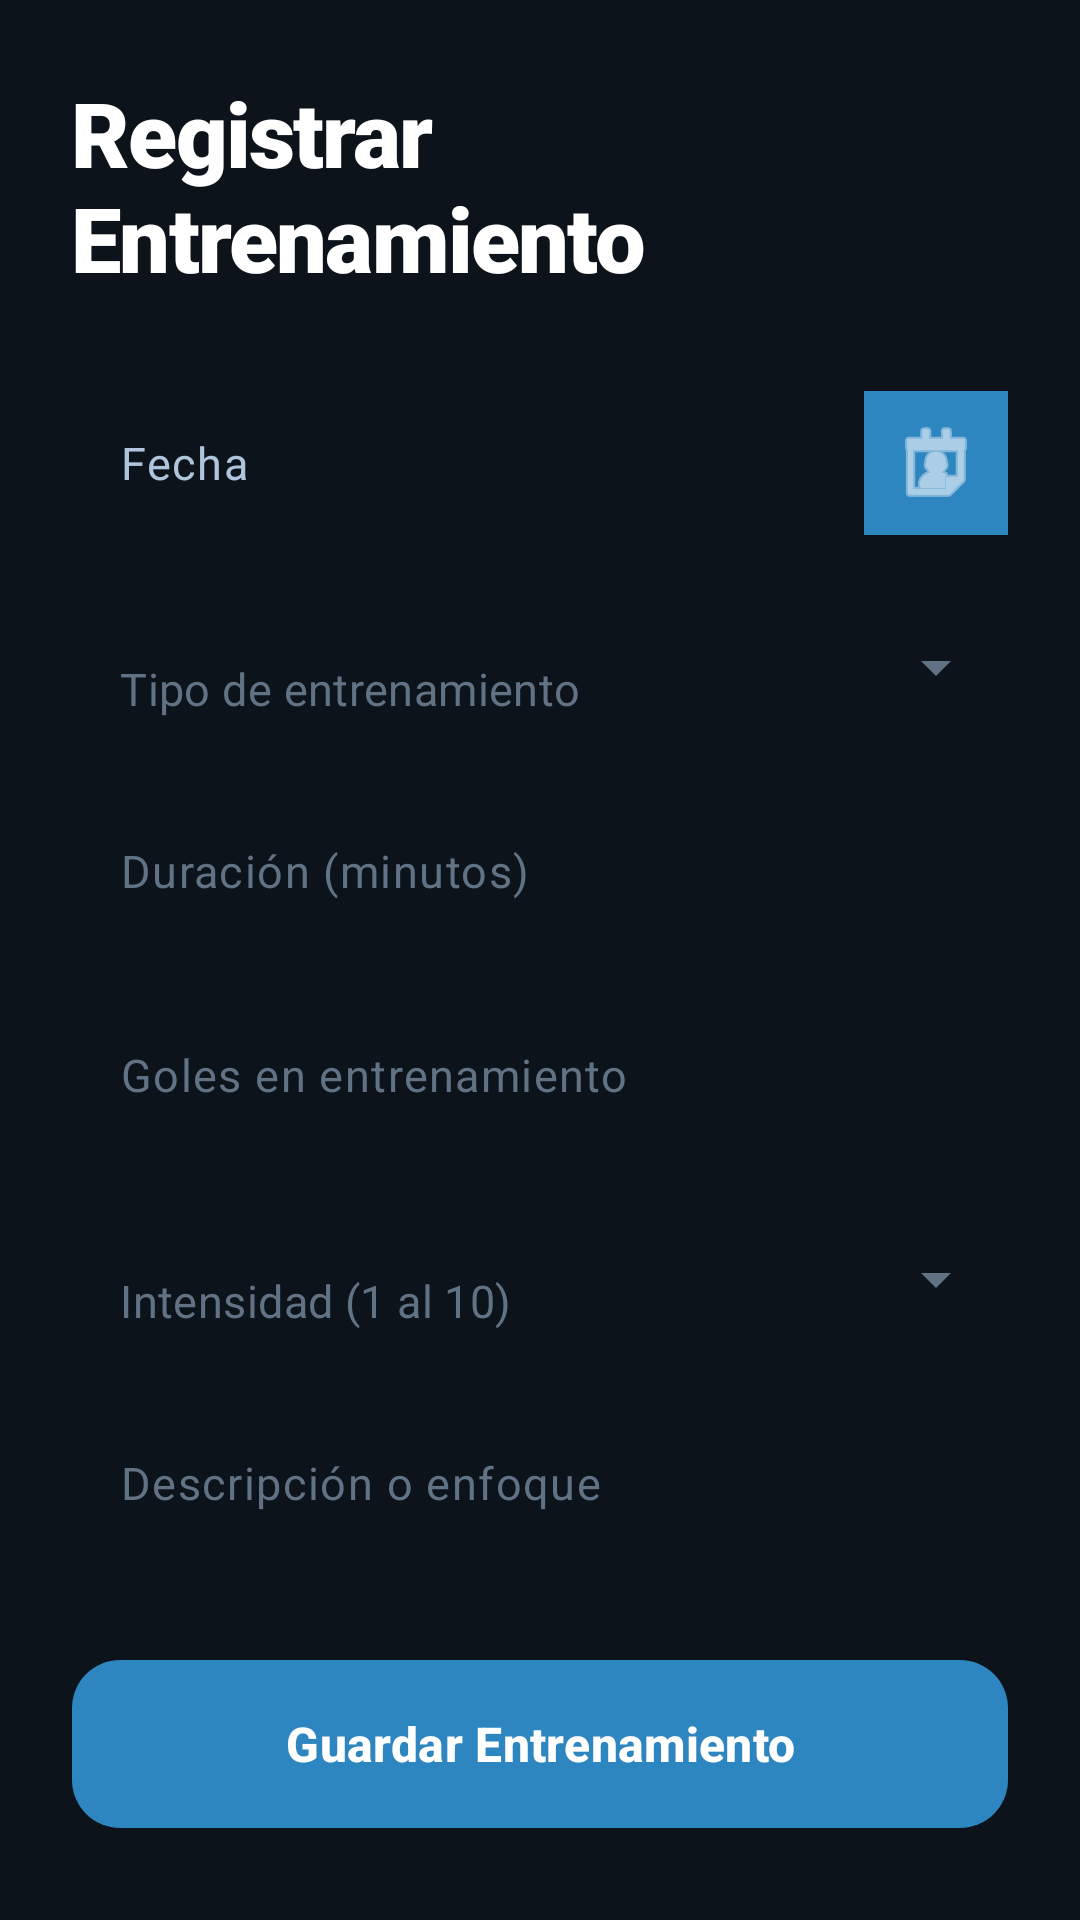

Point at icon controls on the screen. Image size 1080px x 1920px, points as [x,y].
calendar: [936,463]
